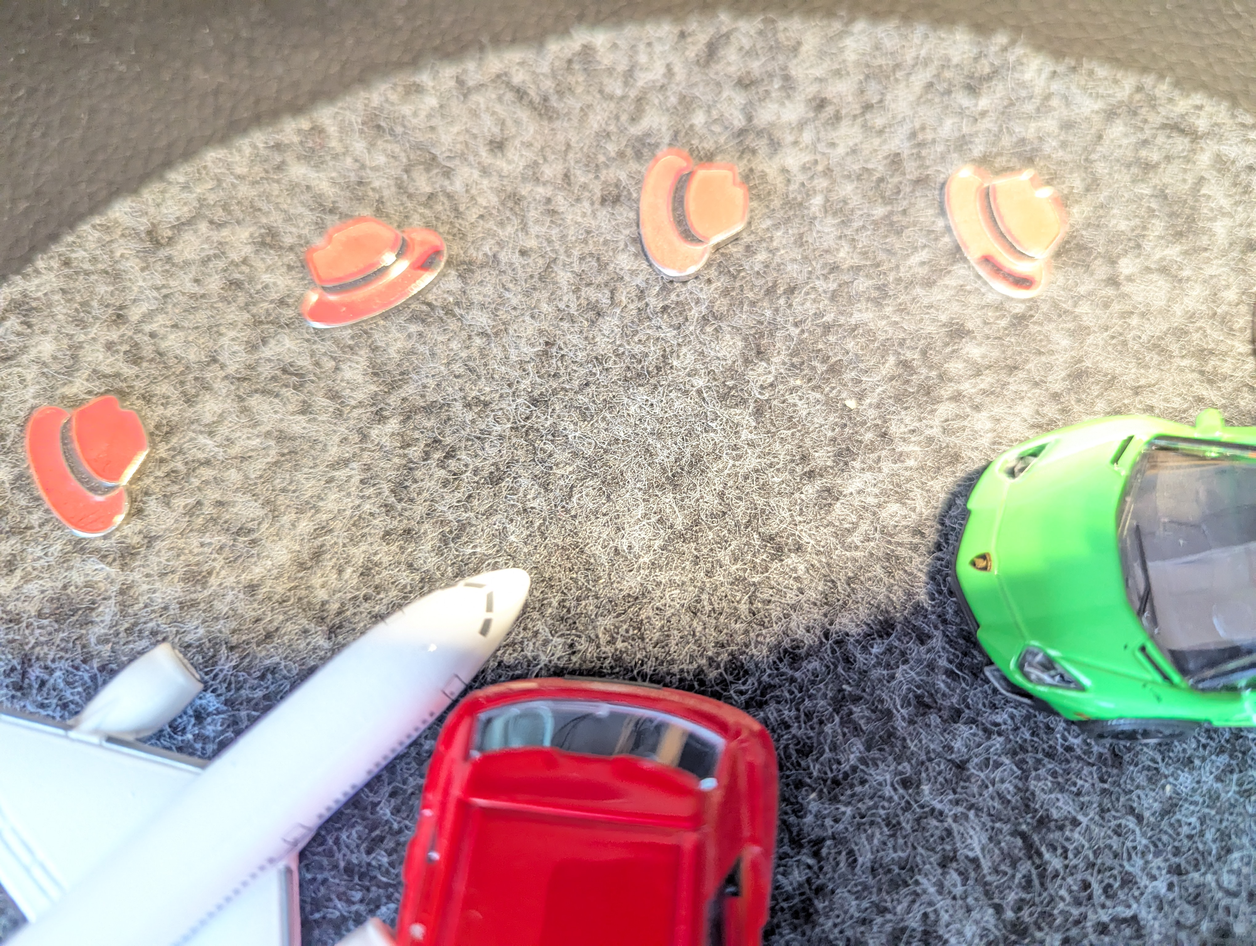Airplane: (0, 521, 577, 946)
Car: (947, 380, 1256, 782)
Red-Hat: (926, 141, 1105, 323), (16, 374, 169, 572), (278, 200, 455, 367), (616, 114, 764, 308)
Scratch: (970, 245, 1049, 312), (403, 245, 463, 285)
